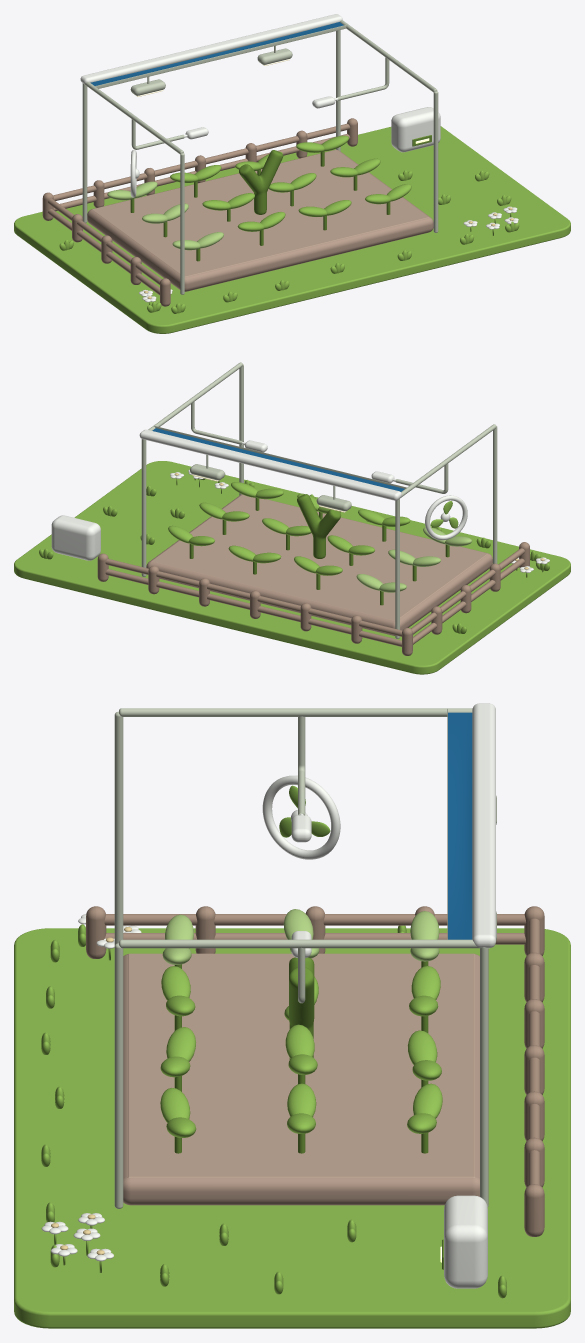
File: garden.glb
The picture shows the model from 3 angles, top to bottom: view 1: azimuth 30°, elevation 25°; view 2: azimuth 150°, elevation 25°; view 3: azimuth 270°, elevation 25°; orthographic projection. The views are drawn at different scales.
Visible parts, largest first — view 1: Land_Platform, Soil_Surface, Fence__Fence_Clay, Earth_Slab, Frame__Frame_Anodized, Shade_Cassette, Hub_Body, Grass_and_Flowers__Grass_Clay, Sensor_Y_Housing, Shade_Leading_Rail, Shade_Fabric, Lights__Frame_Anodized (+14 smaller); view 2: Land_Platform, Soil_Surface, Fence__Fence_Clay, Earth_Slab, Frame__Frame_Anodized, Shade_Cassette, Hub_Body, Sensor_Y_Housing, Shade_Fabric, Grass_and_Flowers__Grass_Clay, Lights__Frame_Anodized, Sprinklers__Frame_Anodized (+13 smaller); view 3: Land_Platform, Soil_Surface, Fence__Fence_Clay, Frame__Frame_Anodized, Earth_Slab, Shade_Cassette, Shade_Fabric, Hub_Body, Grass_and_Flowers__Grass_Clay, Fan_Round_Shroud, Sensor_Y_Housing, Grass_and_Flowers__Petal_Cream (+12 smaller).
Part boxes in pixels (x1,y1,x2,y2): Land_Platform: [14, 126, 570, 333]; Soil_Surface: [91, 149, 429, 276]; Fence__Fence_Clay: [42, 118, 357, 306]; Earth_Slab: [87, 150, 433, 291]; Frame__Frame_Anodized: [82, 20, 438, 294]; Shade_Cassette: [80, 14, 342, 84]; Hub_Body: [391, 107, 440, 152]; Grass_and_Flowers__Grass_Clay: [59, 170, 519, 313]; Sensor_Y_Housing: [239, 150, 283, 214]; Shade_Leading_Rail: [95, 24, 347, 88]; Shade_Fabric: [90, 22, 343, 85]; Lights__Frame_Anodized: [130, 46, 292, 95]; Land_Platform: [14, 461, 570, 674]; Soil_Surface: [151, 494, 487, 621]; Fence__Fence_Clay: [97, 542, 529, 655]; Earth_Slab: [146, 494, 492, 635]; Frame__Frame_Anodized: [141, 362, 497, 638]; Shade_Cassette: [139, 429, 401, 500]; Hub_Body: [51, 515, 100, 560]; Sensor_Y_Housing: [297, 494, 340, 558]; Shade_Fabric: [152, 428, 404, 491]; Grass_and_Flowers__Grass_Clay: [39, 478, 549, 633]; Lights__Frame_Anodized: [190, 455, 351, 511]; Sprinklers__Frame_Anodized: [191, 401, 448, 493]; Land_Platform: [14, 928, 570, 1328]; Soil_Surface: [127, 953, 475, 1177]; Fence__Fence_Clay: [86, 906, 544, 1236]; Frame__Frame_Anodized: [114, 708, 488, 1208]; Earth_Slab: [123, 954, 479, 1205]; Shade_Cassette: [472, 703, 495, 948]; Shade_Fabric: [448, 712, 472, 939]; Hub_Body: [444, 1195, 487, 1288]; Grass_and_Flowers__Grass_Clay: [41, 924, 506, 1298]; Fan_Round_Shroud: [262, 775, 340, 859]; Sensor_Y_Housing: [289, 957, 314, 1059]; Grass_and_Flowers__Petal_Cream: [41, 914, 141, 1261].
Bounding box in the file's own units: 10 × 3.51 × 6.1.
